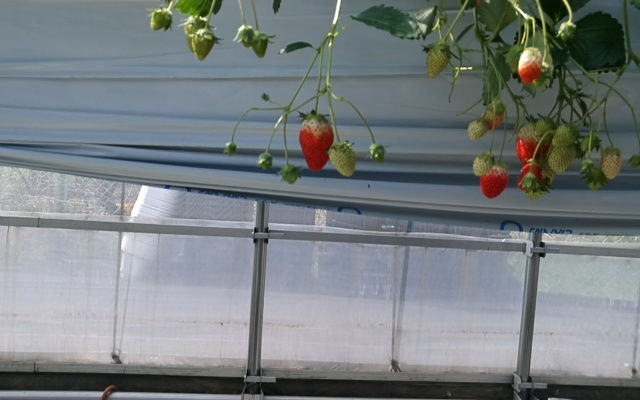GreenStrawberry: (182, 15, 216, 64), (423, 41, 452, 81), (516, 46, 543, 87), (544, 144, 577, 174), (598, 145, 624, 183), (330, 145, 357, 178), (553, 120, 578, 151), (146, 7, 174, 33), (250, 32, 271, 60), (472, 152, 495, 177), (535, 114, 554, 144), (483, 106, 503, 131), (466, 118, 486, 143), (238, 23, 255, 49)
MatureStrawberry: (297, 112, 334, 172), (513, 119, 549, 168), (480, 163, 512, 199), (515, 158, 546, 194)
